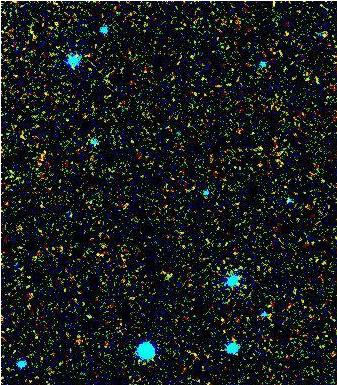star: (74, 301, 104, 331)
